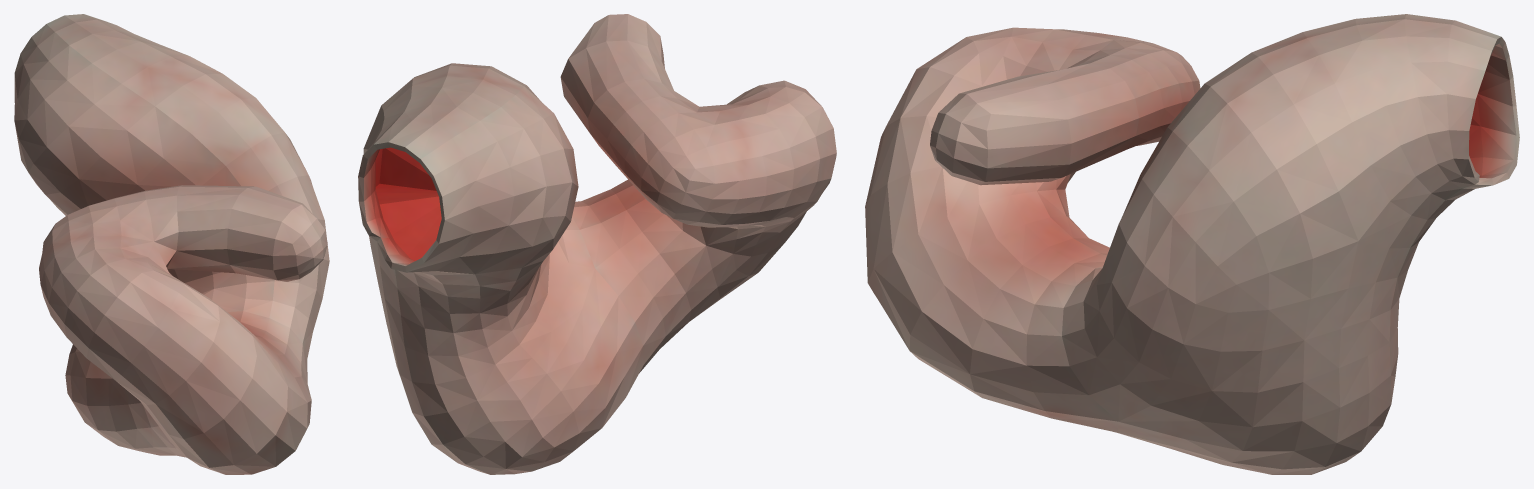
File: colon_caecum_LP.glb
The picture shows the model from 3 angles, left to right: view 1: azimuth 30°, elevation 25°; view 2: azimuth 150°, elevation 25°; view 3: azimuth 270°, elevation 25°; orthographic projection. The views are drawn at different scales.
Parts seen in each view (by area): view 1: colon_caecum_LP; view 2: colon_caecum_LP; view 3: colon_caecum_LP.
Part boxes in pixels (bbox=[...]): colon_caecum_LP: bbox=[14, 14, 329, 474]; colon_caecum_LP: bbox=[358, 14, 836, 474]; colon_caecum_LP: bbox=[865, 14, 1519, 474].
Bounding box in the file's own units: 0.000898 × 0.000989 × 0.00132.
Materials: 1 (1 with a texture image).
